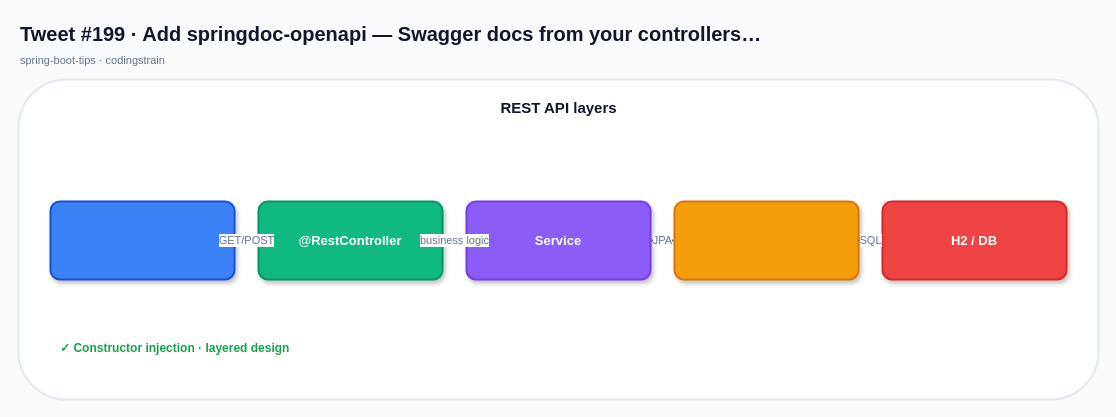
Image size: 1116x417. Some labels were removed from this diagram. Each missing label, with the centre of its shape:
"HTTP Client" belongs at (143,241).
"Repository" belongs at (767,241).
